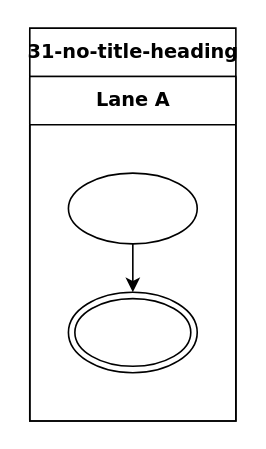
This 266x449 diagram has some shape labels left out. Each missing label, with the centre of its shape:
Vào: (x=132, y=207)
Xong: (x=132, y=332)
